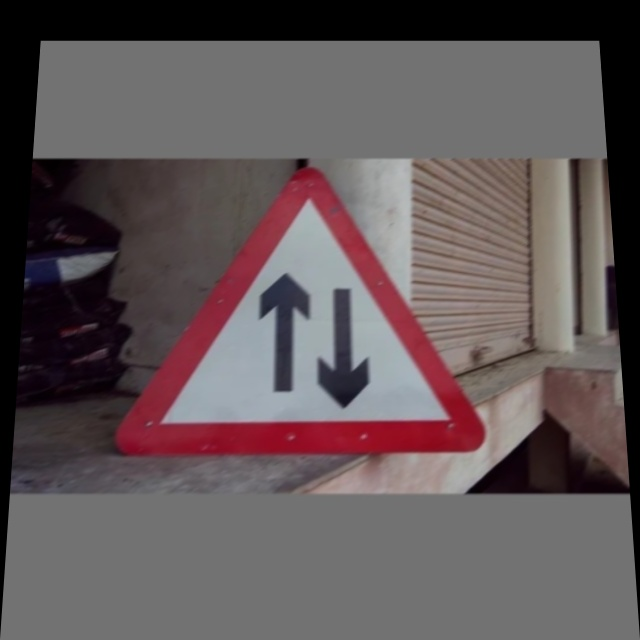Mandatory_Two_Way_Traffic: (148, 163, 480, 467)
